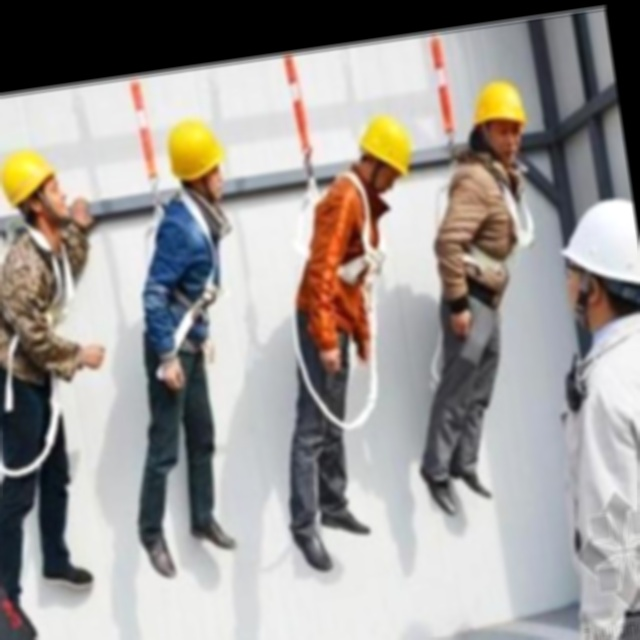Con_Casco: (0, 147, 77, 243), (167, 118, 227, 204)
